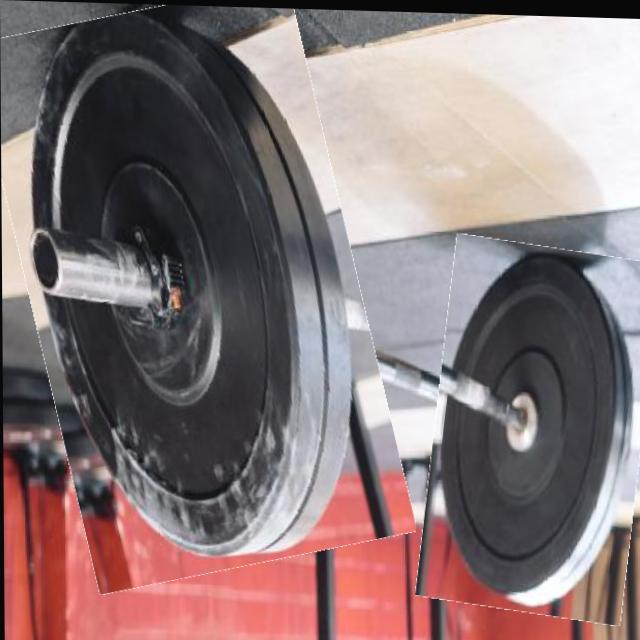barbell: (1, 1, 387, 588), (423, 237, 640, 619)
